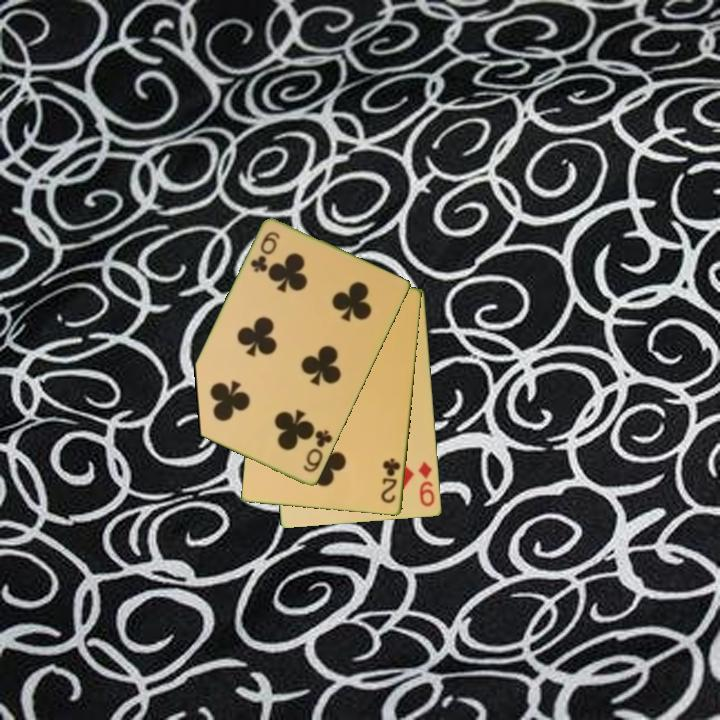2c: (378, 455, 403, 506)
6c: (299, 426, 336, 476), (247, 228, 283, 275)
9d: (415, 458, 438, 510)
